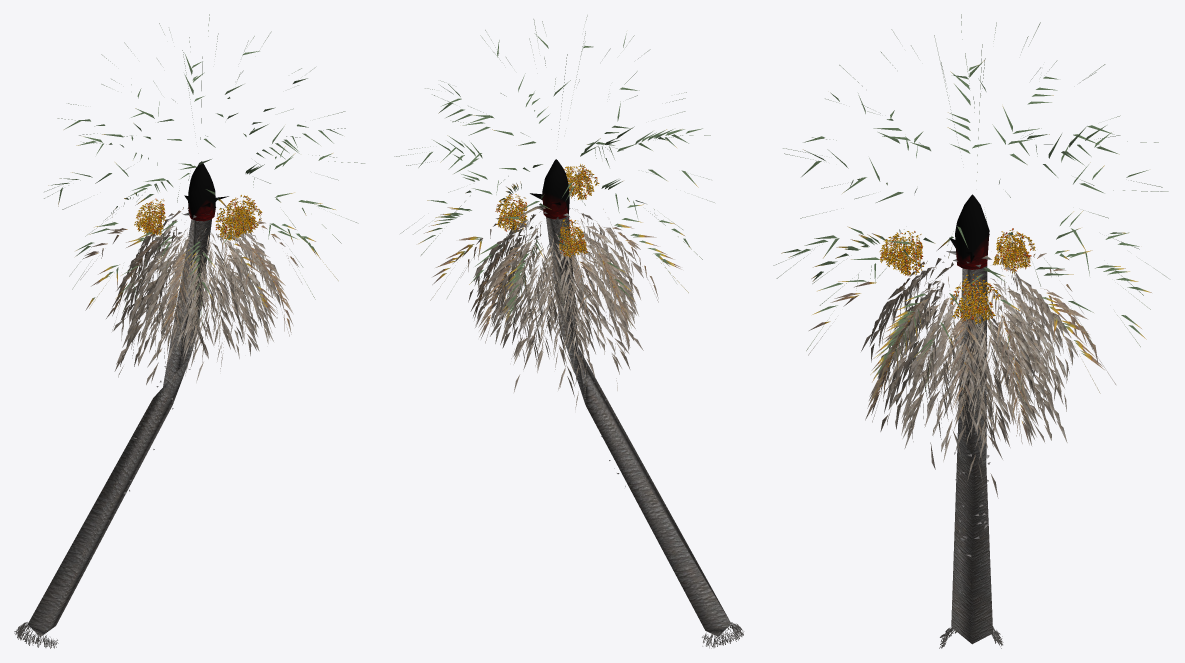
The model's file is assets__ph__palm_b.glb.
The picture shows the model from 3 angles, left to right: view 1: azimuth 30°, elevation 25°; view 2: azimuth 150°, elevation 25°; view 3: azimuth 270°, elevation 25°; orthographic projection. The views are drawn at different scales.
Parts seen in each view (by area): view 1: Phoenix_dactylifera_HD; view 2: Phoenix_dactylifera_HD; view 3: Phoenix_dactylifera_HD.
Part boxes in pixels (<box>): Phoenix_dactylifera_HD: <box>14,14,364,648</box>; Phoenix_dactylifera_HD: <box>394,15,744,648</box>; Phoenix_dactylifera_HD: <box>773,14,1168,648</box>.
Size of the model in its own units: 7.97 by 13.04 by 6.64.
18 materials, 18 textured.
